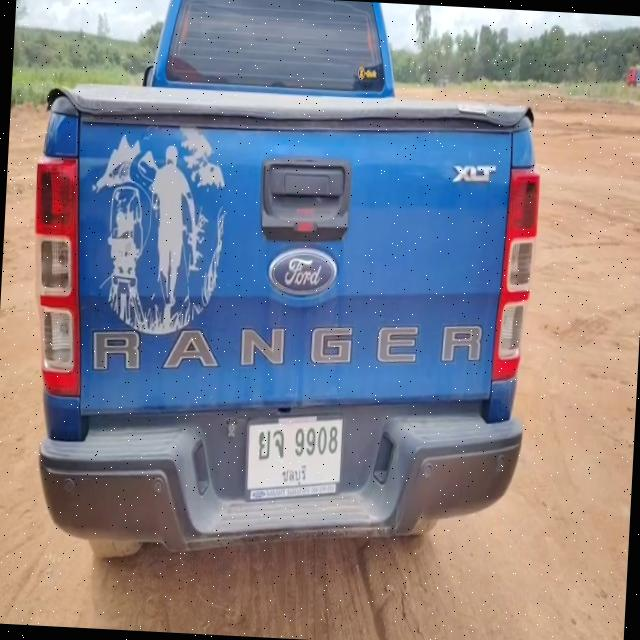Digit: (294, 423, 338, 462)
Licenseplate: (242, 412, 346, 498)
Provincename: (282, 462, 308, 486)
Thaichar: (258, 426, 288, 464)
